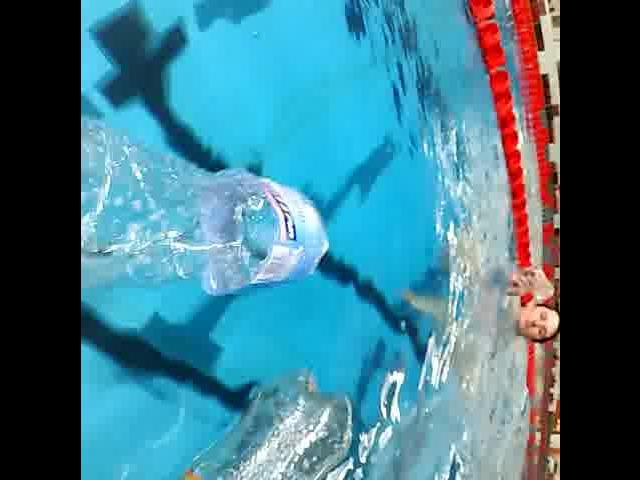Bottle: (80, 114, 335, 299), (101, 362, 356, 480)
